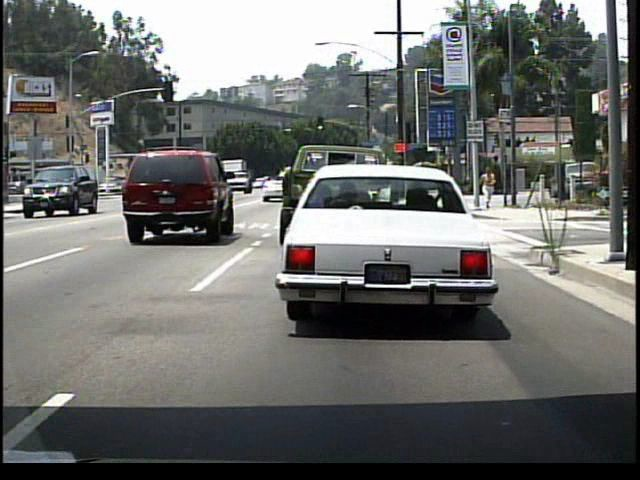person: (481, 166, 497, 211)
